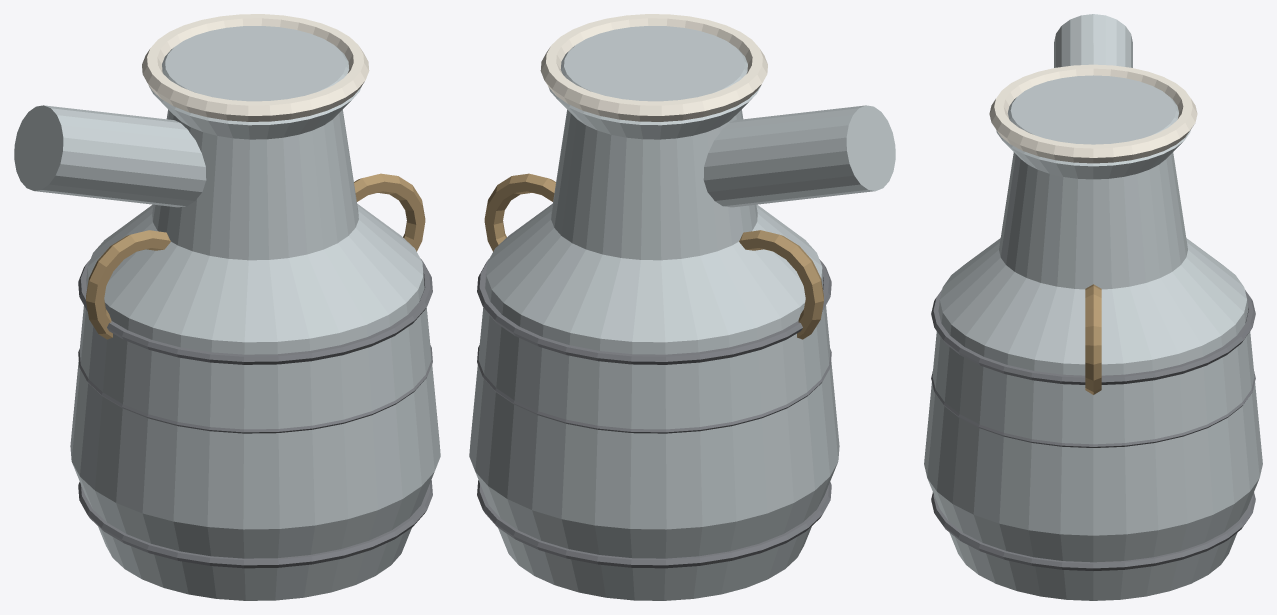
The model's file is craft_sake_flask.glb.
3 views of the same model, side by side, from view 1: azimuth 30°, elevation 25°; view 2: azimuth 150°, elevation 25°; view 3: azimuth 270°, elevation 25° (orthographic). The views are drawn at different scales.
Visible parts, largest first — view 1: Tin sake serving flask, Slender curving pouring neck, Hammered tin rim, Etched sake flask decoration.003, Etched sake flask decoration, Carafe decorative bail, Carafe decorative bail.001, Etched sake flask decoration.002; view 2: Tin sake serving flask, Slender curving pouring neck, Hammered tin rim, Etched sake flask decoration.003, Etched sake flask decoration, Carafe decorative bail, Carafe decorative bail.001, Etched sake flask decoration.002; view 3: Tin sake serving flask, Hammered tin rim, Etched sake flask decoration.003, Slender curving pouring neck, Etched sake flask decoration, Carafe decorative bail.001, Etched sake flask decoration.002.
Part boxes in pixels (<box>): Tin sake serving flask: <box>70,26,440,600</box>; Slender curving pouring neck: <box>14,105,206,207</box>; Hammered tin rim: <box>142,14,369,121</box>; Etched sake flask decoration.003: <box>78,258,432,364</box>; Etched sake flask decoration: <box>78,480,432,568</box>; Carafe decorative bail: <box>86,230,170,339</box>; Carafe decorative bail.001: <box>354,173,425,251</box>; Etched sake flask decoration.002: <box>78,345,432,433</box>; Tin sake serving flask: <box>469,26,839,600</box>; Slender curving pouring neck: <box>703,105,895,207</box>; Hammered tin rim: <box>540,14,767,121</box>; Etched sake flask decoration.003: <box>477,258,831,364</box>; Etched sake flask decoration: <box>477,480,831,568</box>; Carafe decorative bail: <box>739,230,823,339</box>; Carafe decorative bail.001: <box>484,173,555,251</box>; Etched sake flask decoration.002: <box>477,345,831,433</box>; Tin sake serving flask: <box>924,75,1262,600</box>; Hammered tin rim: <box>989,64,1197,163</box>; Etched sake flask decoration.003: <box>931,290,1255,384</box>; Slender curving pouring neck: <box>1054,14,1132,67</box>; Etched sake flask decoration: <box>931,492,1255,570</box>; Carafe decorative bail.001: <box>1085,284,1101,394</box>; Etched sake flask decoration.002: <box>931,371,1255,447</box>.
Size of the model in its own units: 1.63 by 1.95 by 1.32.
